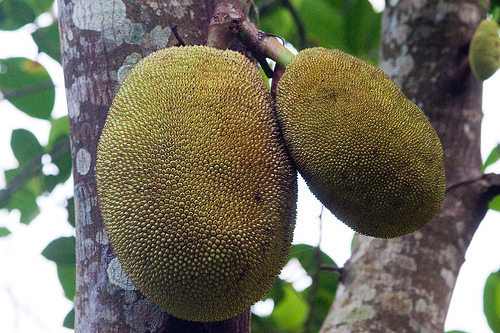jackfruit: (93, 44, 300, 323), (275, 47, 445, 238), (469, 14, 499, 83)
